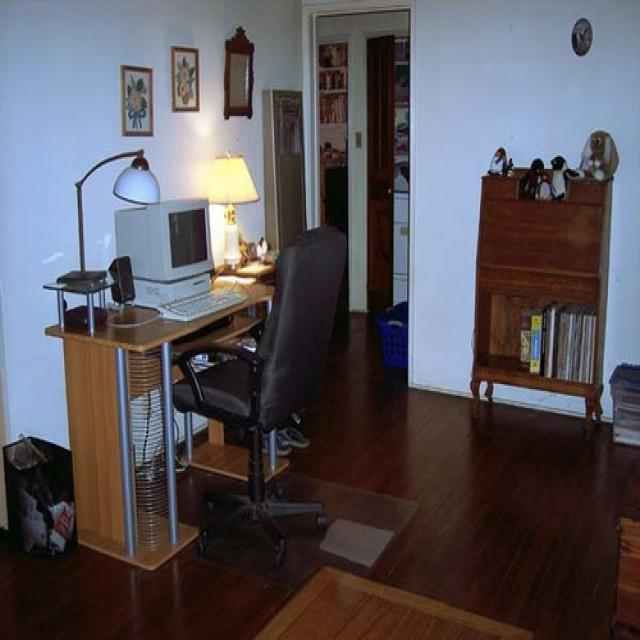chair: (170, 224, 350, 574)
